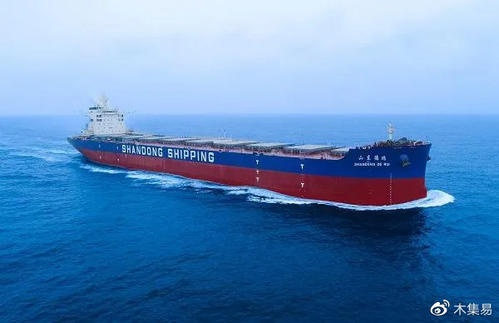Cargoship: (67, 88, 431, 206)
